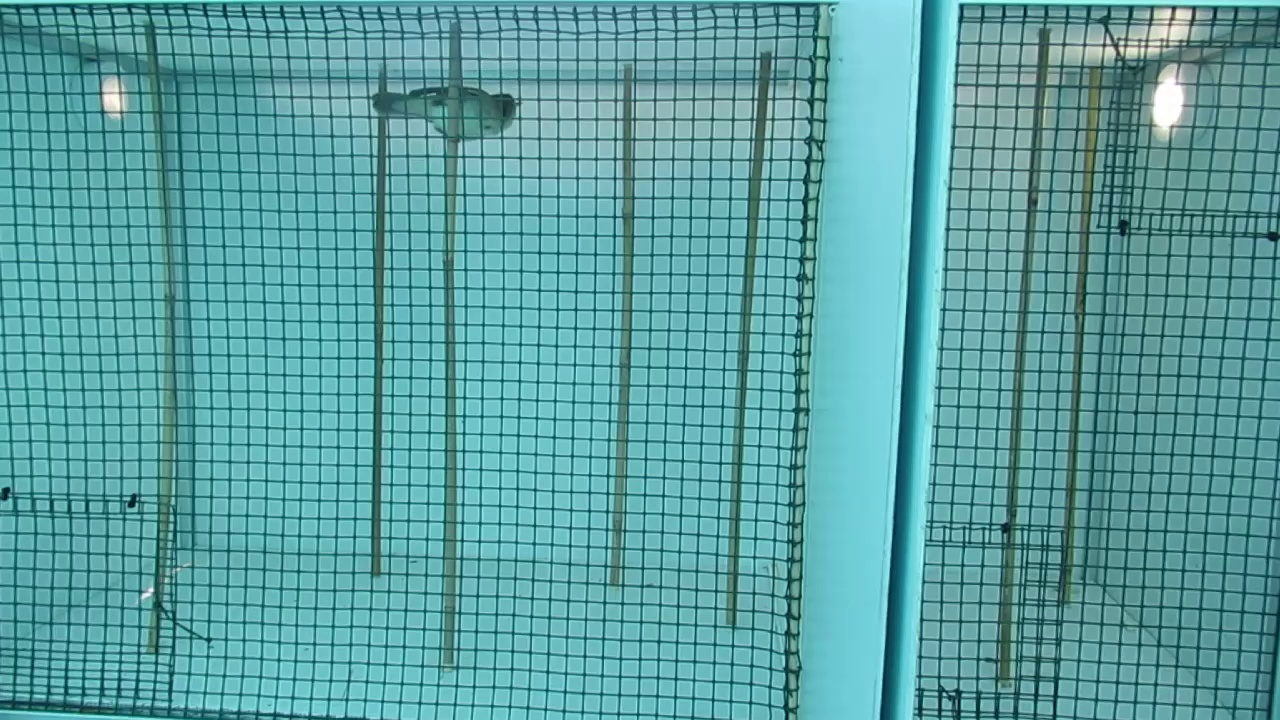bird: (370, 84, 523, 144)
stick: (994, 25, 1055, 684), (721, 50, 775, 627), (1056, 63, 1103, 605), (140, 24, 179, 649), (605, 57, 640, 587), (438, 16, 465, 663), (368, 64, 390, 578)
